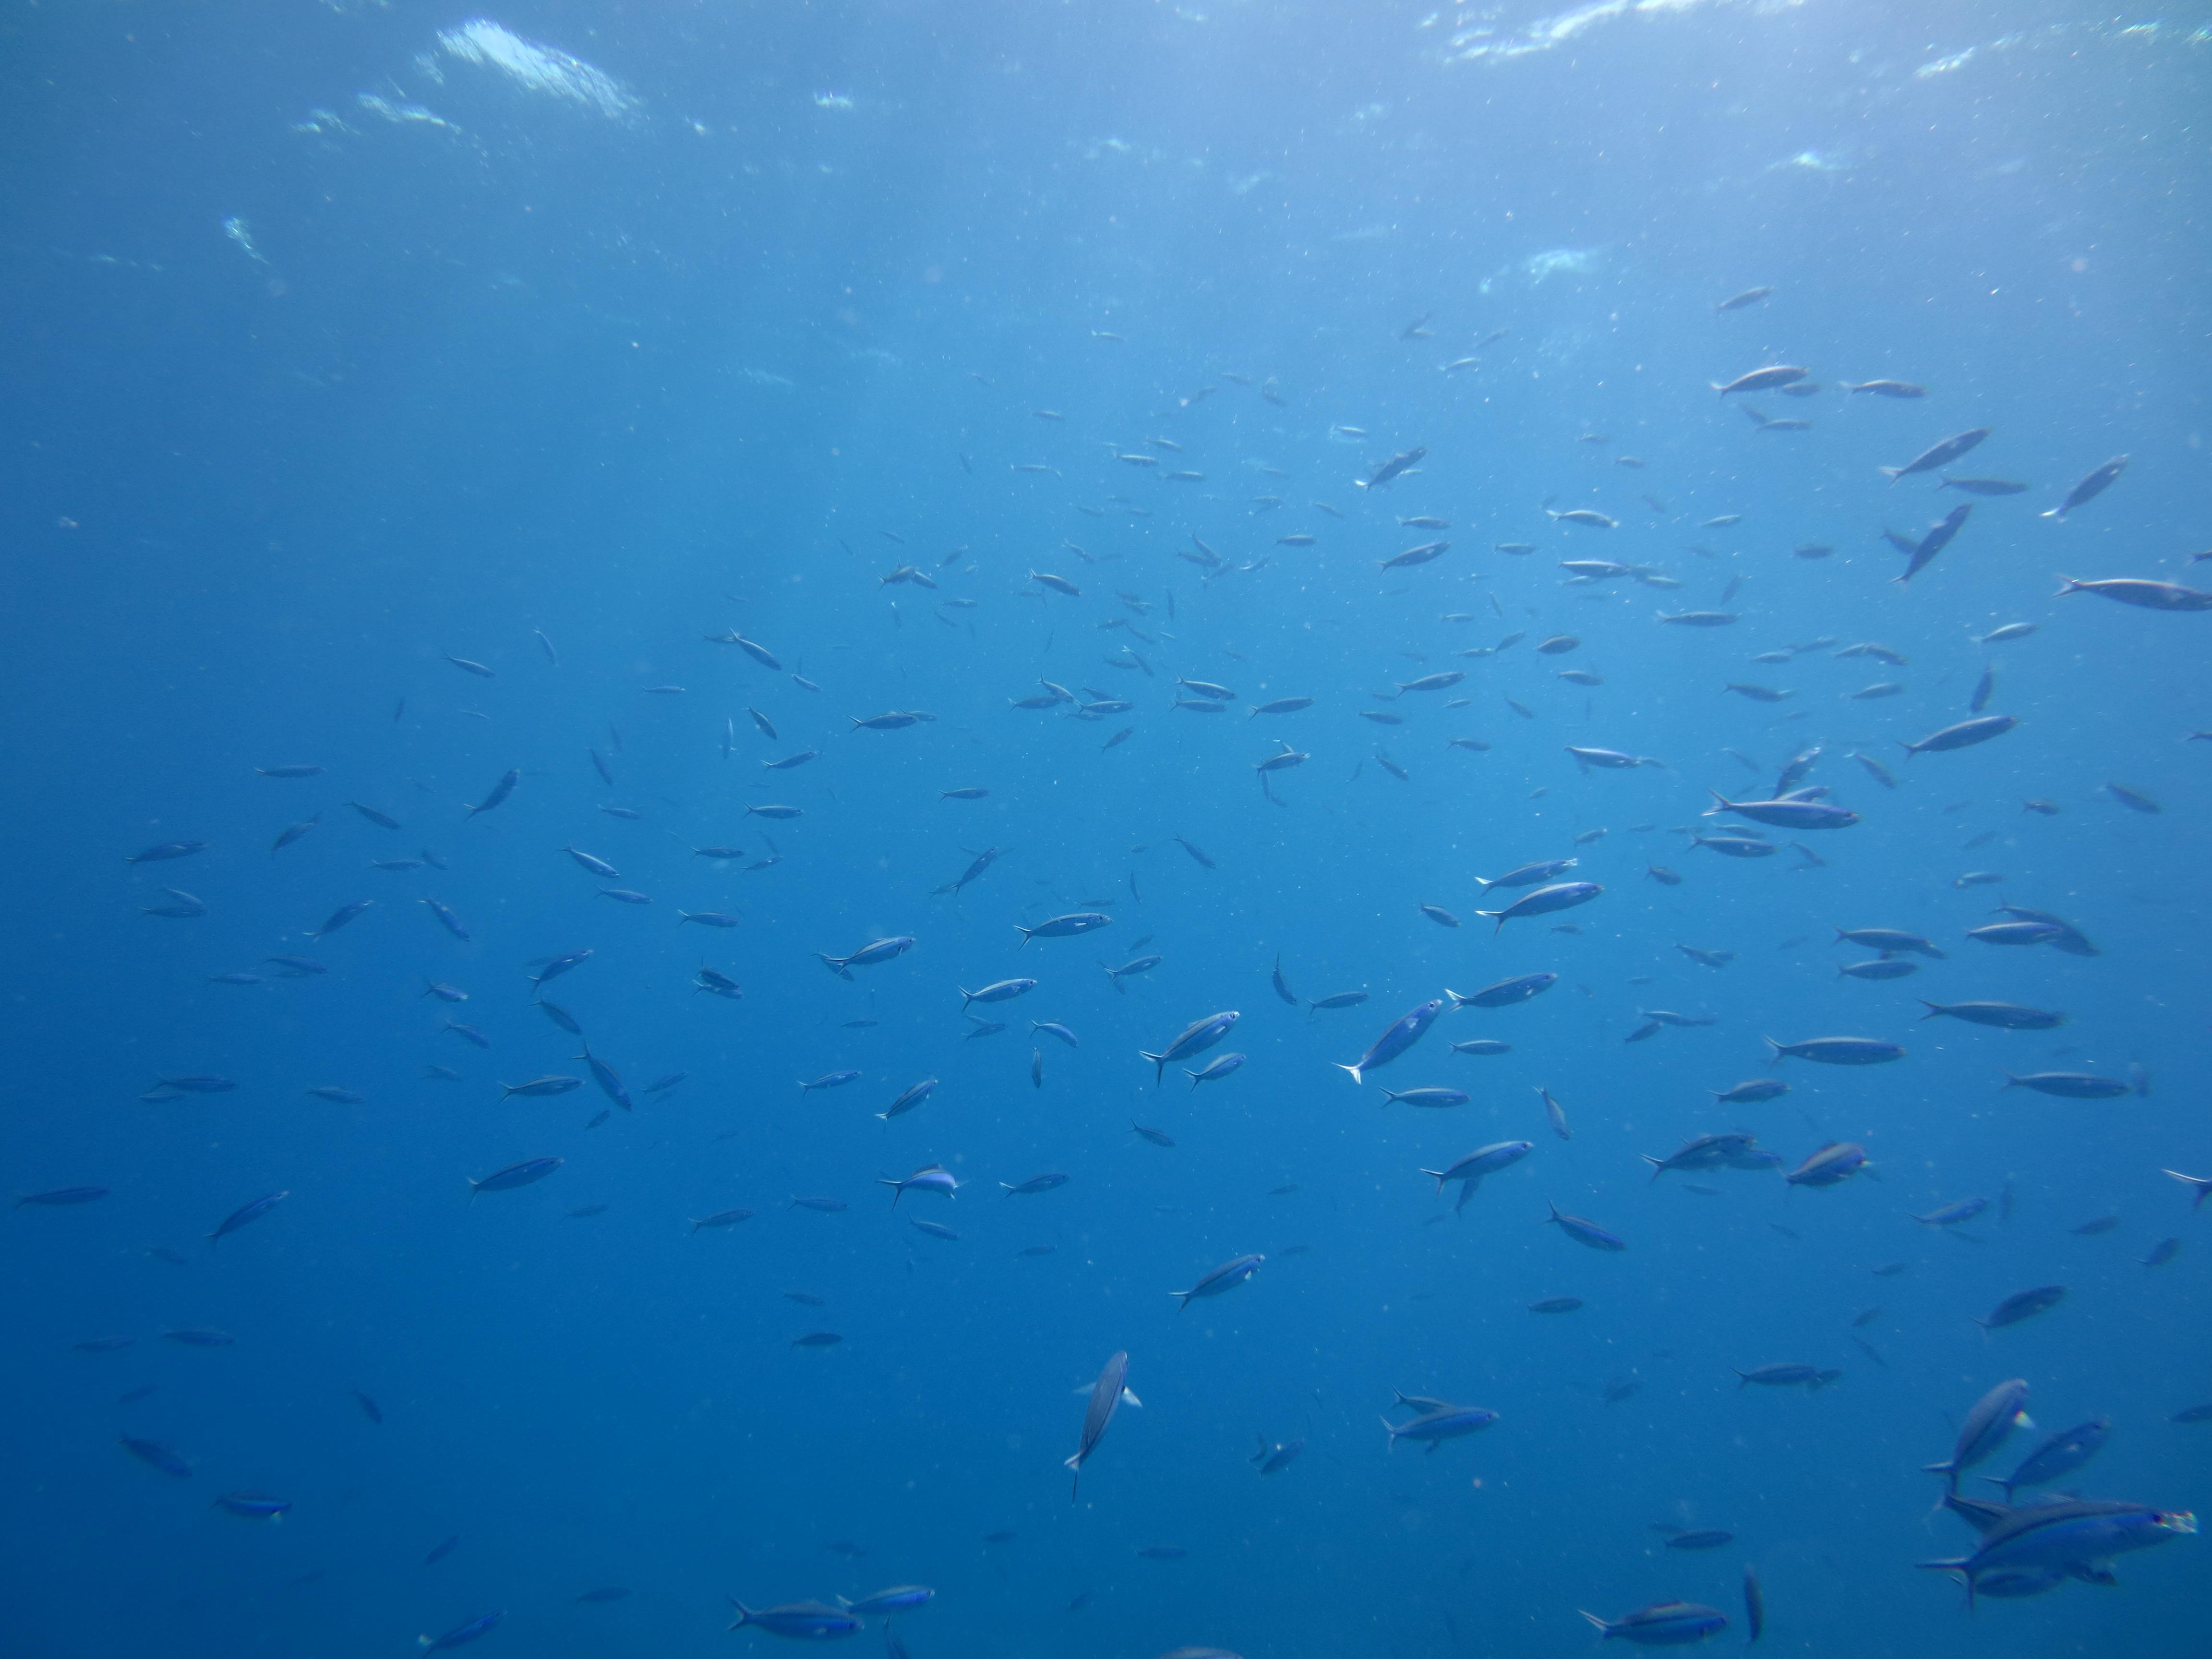Pterocaesio tile: (1007, 1338, 1167, 1514), (1738, 993, 1942, 1108), (1912, 1368, 2048, 1516), (1336, 1387, 1566, 1467), (1118, 1234, 1310, 1330), (1327, 969, 1451, 1112), (977, 889, 1151, 971), (1500, 1190, 1686, 1263), (176, 1173, 320, 1267), (1127, 993, 1261, 1094), (1465, 870, 1632, 939), (1548, 1600, 1754, 1656), (441, 1145, 618, 1208), (1447, 957, 1602, 1028), (1759, 1133, 1888, 1216), (1907, 986, 2099, 1042), (1968, 1060, 2141, 1117), (798, 925, 965, 981), (1407, 1131, 1555, 1192), (686, 1596, 876, 1642), (815, 1575, 1001, 1621), (517, 931, 613, 1007), (1162, 814, 1240, 899), (761, 1061, 890, 1110), (860, 1070, 954, 1136), (1357, 537, 1484, 586), (1113, 1107, 1209, 1171), (1714, 1351, 1824, 1405), (946, 967, 1064, 1016), (456, 756, 533, 831), (575, 1042, 643, 1126), (129, 1065, 265, 1105), (1648, 596, 1745, 652), (1228, 741, 1339, 786), (1003, 561, 1109, 608), (486, 1070, 585, 1119), (718, 627, 799, 685), (415, 890, 486, 953), (989, 1164, 1097, 1204), (662, 899, 752, 946), (1385, 667, 1500, 701), (550, 838, 627, 885), (1437, 725, 1515, 770), (1423, 1035, 1548, 1063), (719, 798, 833, 828), (1235, 694, 1334, 725), (397, 978, 488, 1011), (435, 1011, 507, 1051), (1071, 690, 1153, 721), (843, 708, 920, 739), (1176, 676, 1252, 706), (686, 840, 749, 870)
